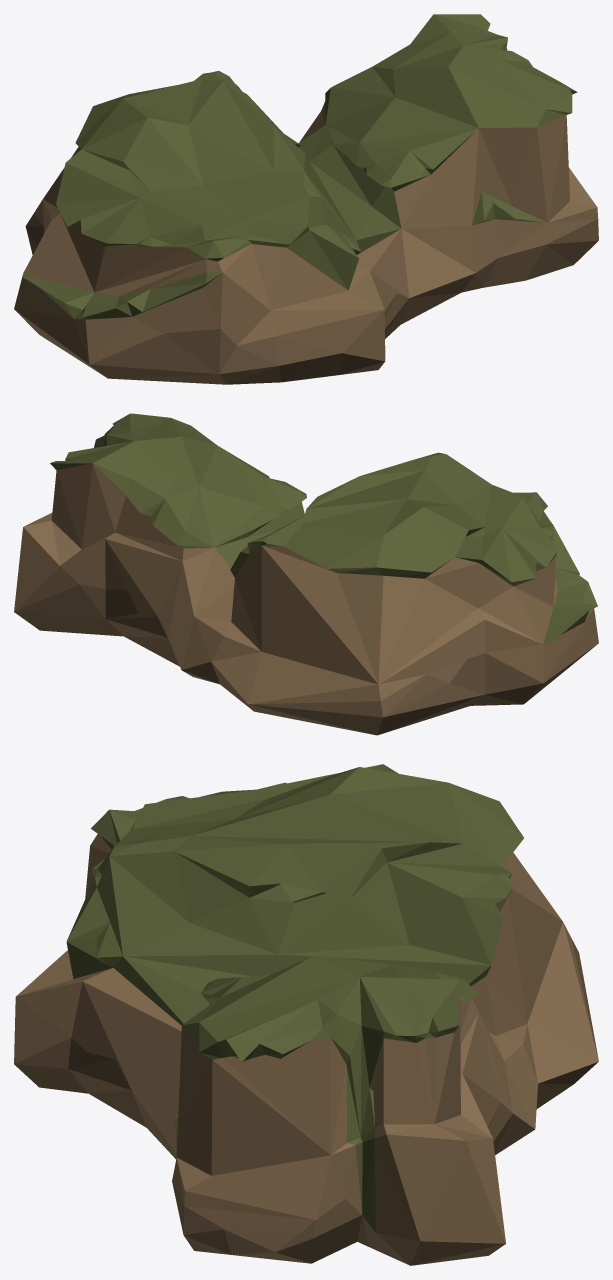
The model's file is SM_Env_Rock_05.gltf.
The picture shows the model from 3 angles, top to bottom: view 1: azimuth 30°, elevation 25°; view 2: azimuth 150°, elevation 25°; view 3: azimuth 270°, elevation 25°; orthographic projection. The views are drawn at different scales.
Parts seen in each view (by area): view 1: SM_Env_Rock_05; view 2: SM_Env_Rock_05; view 3: SM_Env_Rock_05.
Part boxes in pixels (left/top/right/bottom): SM_Env_Rock_05: left=14, top=14, right=598, bottom=384; SM_Env_Rock_05: left=14, top=413, right=598, bottom=735; SM_Env_Rock_05: left=14, top=764, right=598, bottom=1265.
Size of the model in its own units: 2.94 by 0.9806 by 2.08.
1 material, 1 textured.
